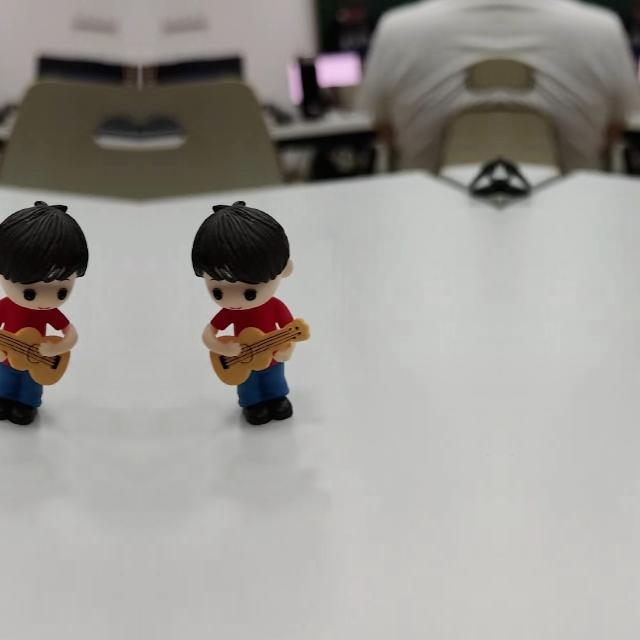man cloth: (206, 306, 292, 348), (0, 305, 73, 348)
man head: (192, 196, 294, 312), (0, 196, 87, 311)
trousers: (230, 360, 300, 430), (0, 359, 50, 430)
